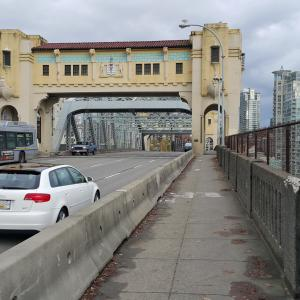Vehicle-registration-plate: (1, 201, 12, 211)
